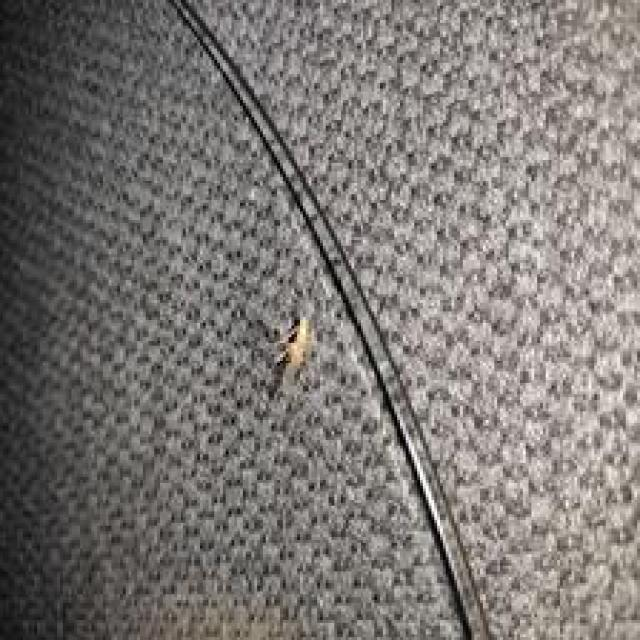Culex: (270, 314, 316, 383)
